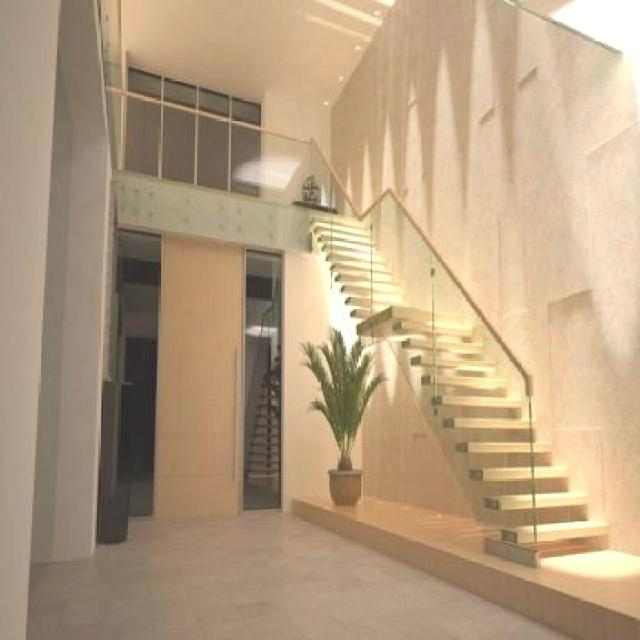stair: (314, 180, 604, 571)
